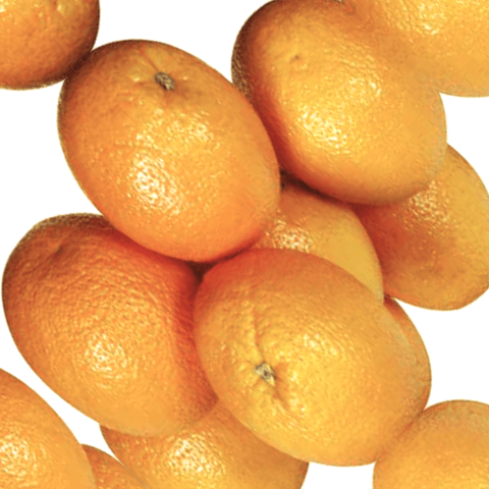orange: (14, 0, 333, 305), (0, 159, 288, 489), (148, 205, 463, 489), (200, 0, 489, 251)
